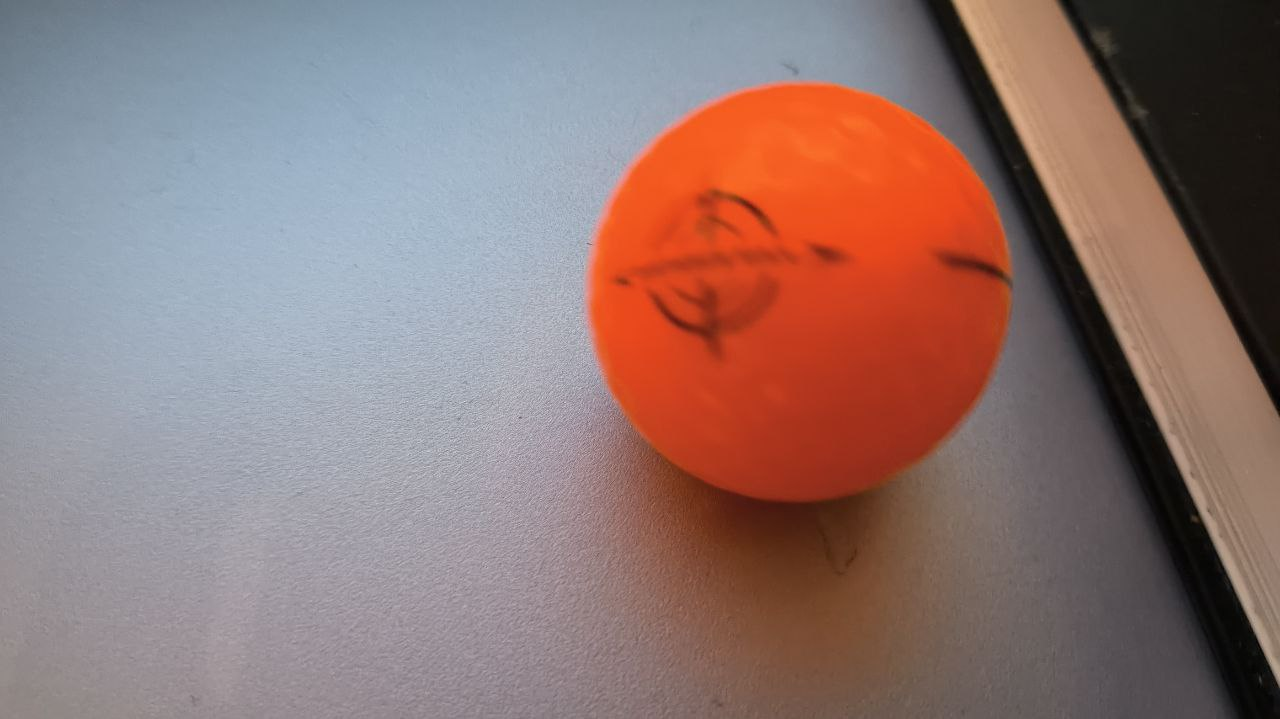orange_ball: (587, 82, 1012, 501)
